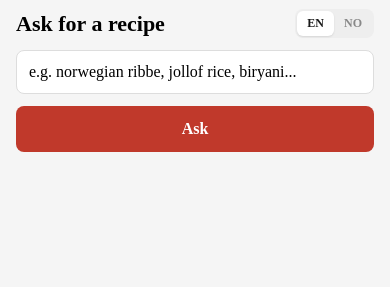
Scenario: AskScreen › shows a note when nothing was grounded
The width and height of the screenshot is (390, 287).
Type "some obscure dish" into the field with test id "ask-input". click: (195, 72)
box: [16, 50, 374, 94]
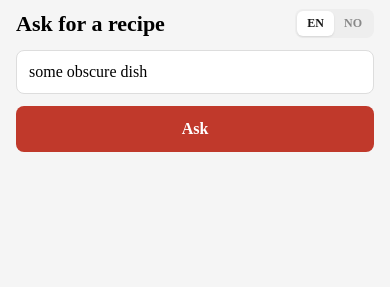
Click the element with test id "ask-submit". click: (195, 129)
box: [16, 106, 374, 152]
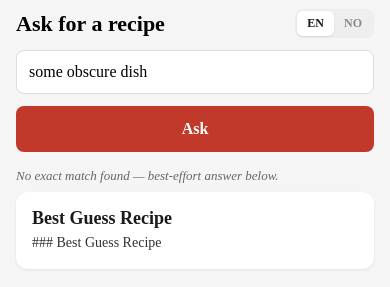
Now the text "No exact match found — best-effort answer below." is shown, box [16, 168, 279, 183]
